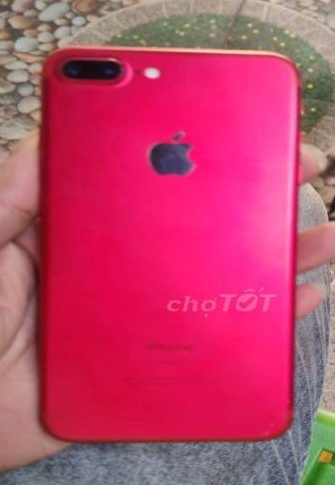scratch: (147, 128, 198, 177), (56, 47, 124, 83), (257, 396, 298, 441)
